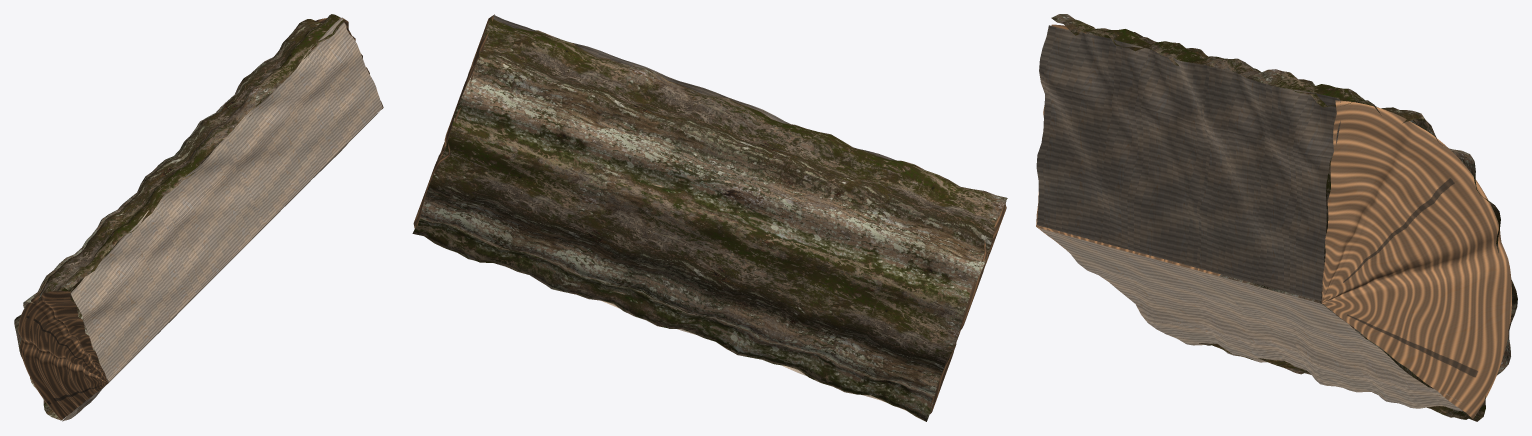
The model's file is roble_seco_v004_candidate.glb.
3 renders of one model, left to right at view 1: azimuth 30°, elevation 25°; view 2: azimuth 150°, elevation 25°; view 3: azimuth 270°, elevation 25°, orthographic. The views are drawn at different scales.
Visible parts, largest first — view 1: Split seasoned roble - continuous bark / fibre / endgrain; view 2: Split seasoned roble - continuous bark / fibre / endgrain; view 3: Split seasoned roble - continuous bark / fibre / endgrain.
Boxes of the visible parts, bbox=[...] form: Split seasoned roble - continuous bark / fibre / endgrain: bbox=[14, 14, 383, 421]; Split seasoned roble - continuous bark / fibre / endgrain: bbox=[412, 14, 1007, 421]; Split seasoned roble - continuous bark / fibre / endgrain: bbox=[1036, 14, 1517, 421].
Bounding box in the file's own units: 0.4623 × 0.3233 × 0.2675.
3 materials, 3 textured.
